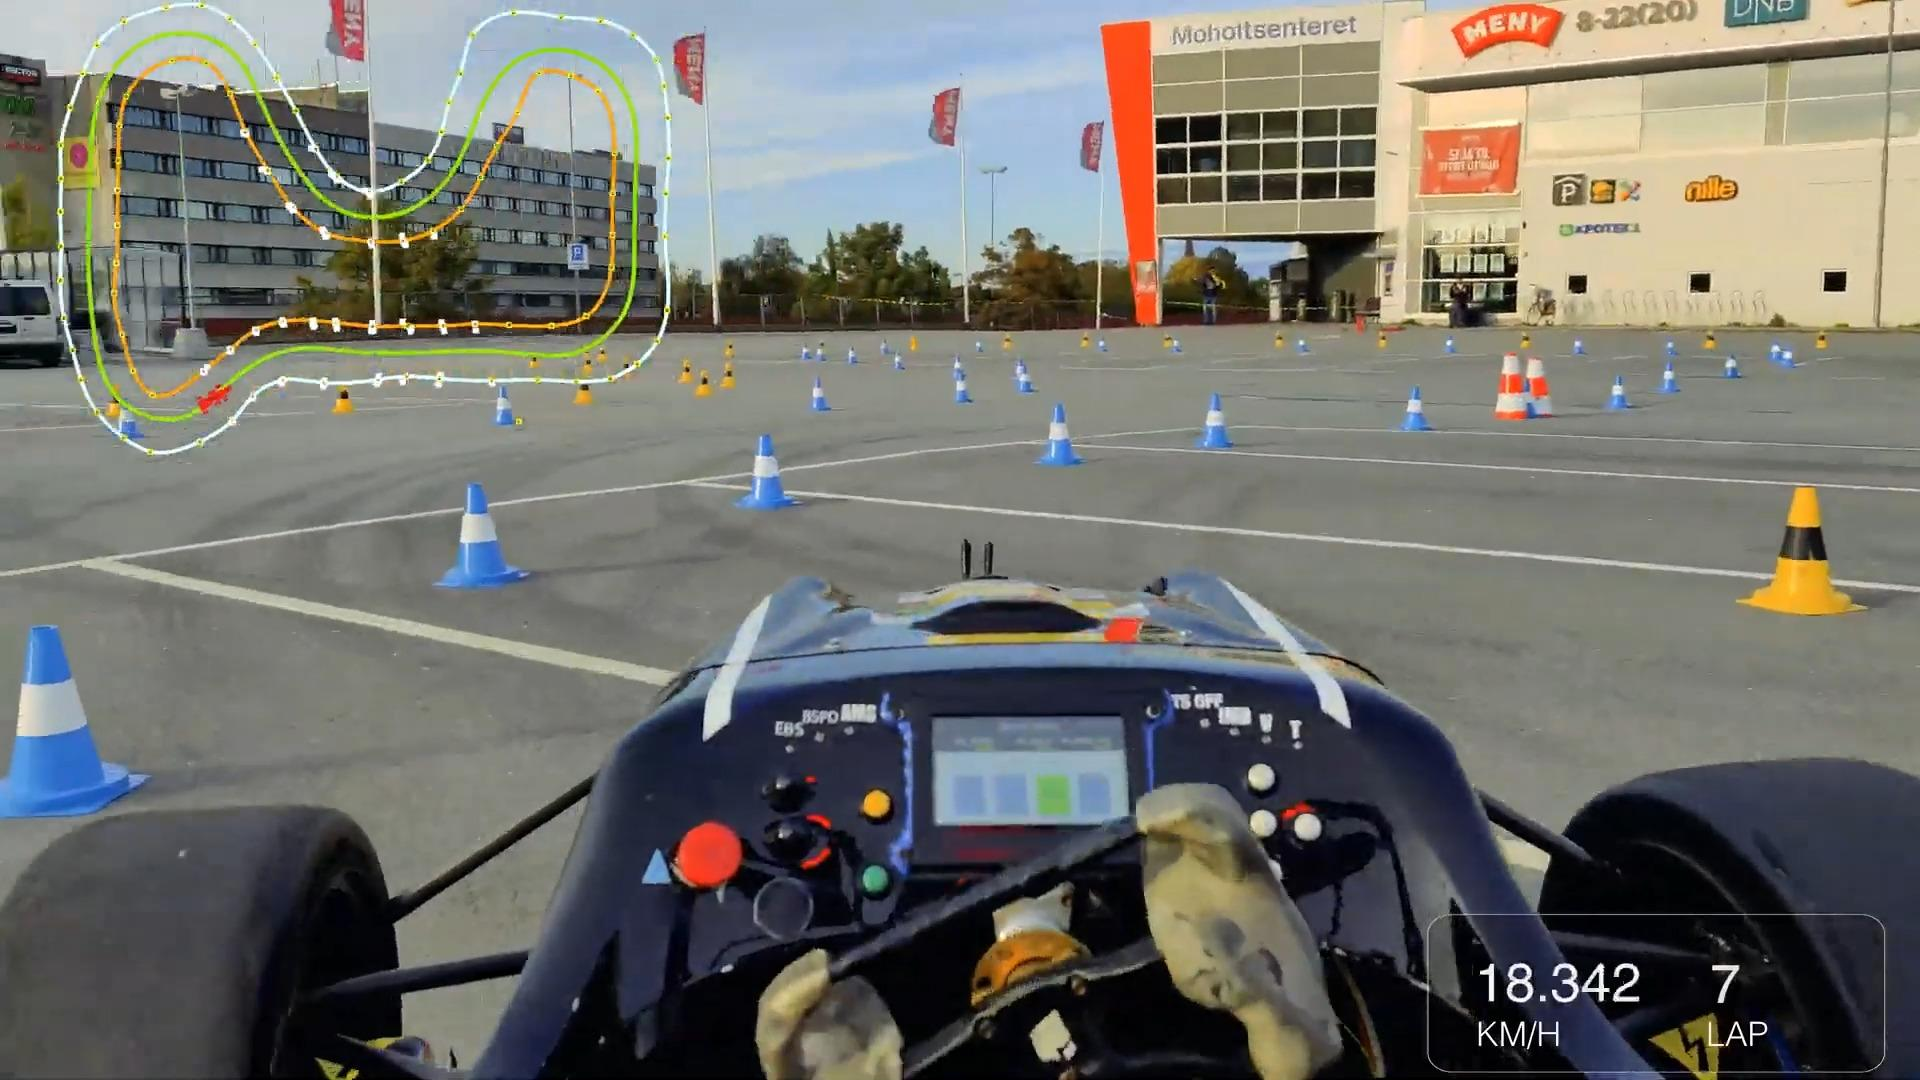blue_cone: (0, 609, 135, 828), (433, 481, 531, 593), (735, 435, 802, 512), (1035, 400, 1091, 467), (1197, 396, 1234, 454), (1402, 386, 1436, 434), (1513, 375, 1540, 419), (1604, 373, 1633, 411), (119, 401, 142, 439), (495, 385, 516, 426), (808, 380, 833, 411), (1658, 364, 1681, 394), (957, 375, 976, 409), (1015, 368, 1036, 397), (1721, 355, 1741, 380), (1779, 343, 1797, 368), (1011, 357, 1031, 380), (1768, 338, 1784, 363), (1443, 334, 1458, 355), (814, 344, 829, 364), (1572, 336, 1588, 356), (1096, 334, 1112, 353), (953, 356, 967, 378), (1296, 335, 1311, 355), (1665, 338, 1679, 357), (893, 349, 905, 371), (798, 342, 811, 360), (1171, 338, 1183, 356), (847, 349, 857, 368), (881, 339, 890, 355), (976, 339, 984, 353)
large_orange_cone: (1495, 351, 1528, 422), (1526, 353, 1559, 418)
yellow_cone: (1741, 485, 1867, 618), (334, 384, 357, 415), (105, 385, 127, 418), (571, 376, 595, 405), (678, 357, 699, 388), (695, 371, 713, 402), (719, 363, 736, 392), (1704, 327, 1720, 351), (1813, 330, 1829, 349), (596, 345, 612, 365), (579, 355, 593, 376), (1375, 330, 1389, 351), (1273, 330, 1284, 351), (1519, 330, 1532, 348), (1001, 334, 1014, 352), (724, 340, 736, 360), (1163, 330, 1174, 349), (1081, 330, 1092, 349)
